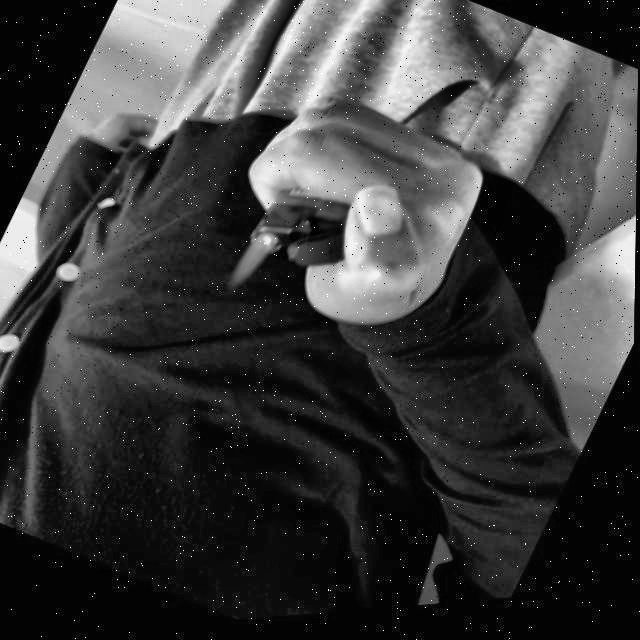Fire: (223, 229, 280, 303)
